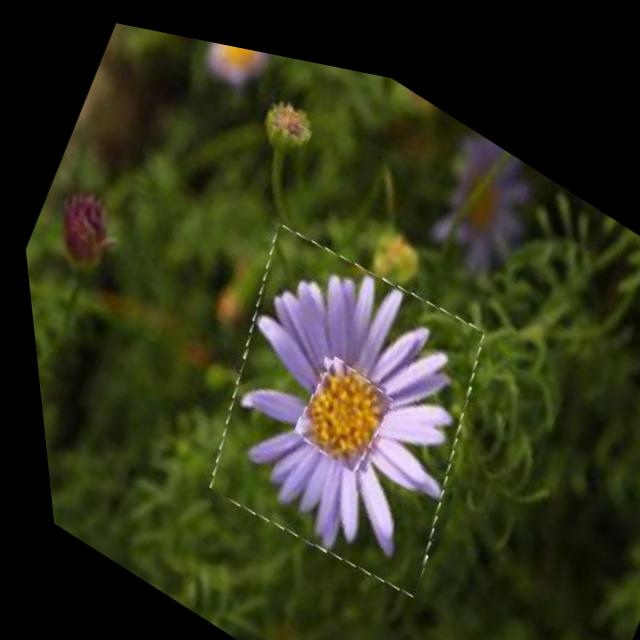Flower: (156, 184, 522, 615), (279, 334, 394, 471)
